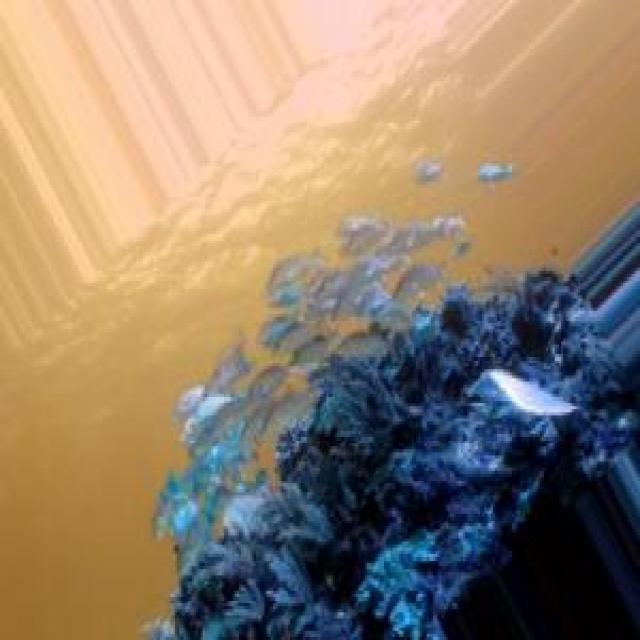Healthy: (307, 227, 640, 482), (186, 421, 505, 639)
